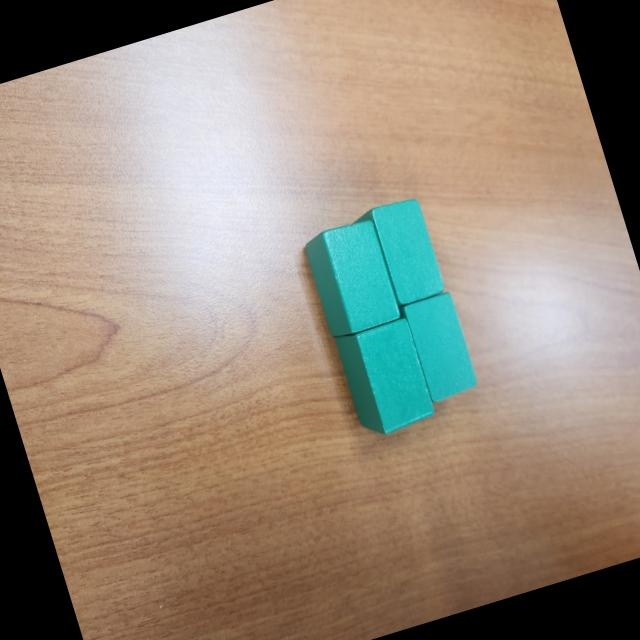green: (332, 314, 440, 446), (301, 213, 404, 341), (348, 192, 448, 314), (398, 290, 480, 404)
